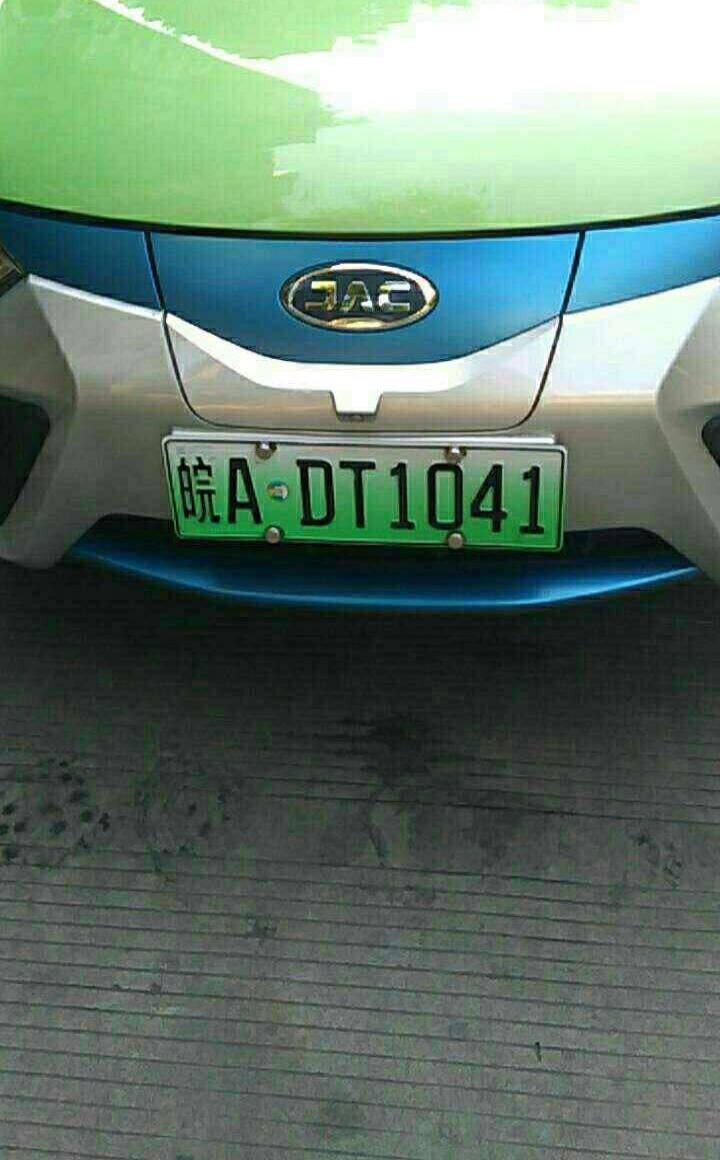car_id: (165, 442, 565, 549)
